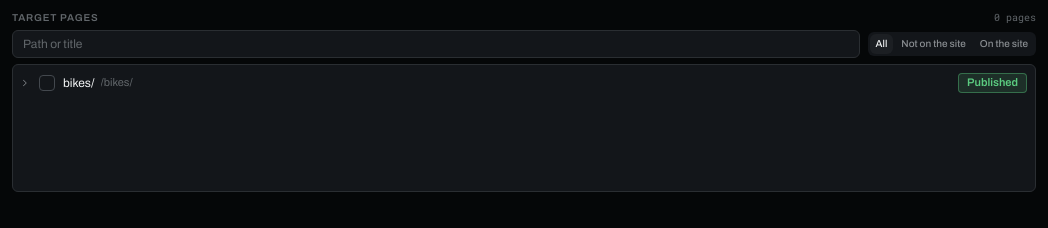
Scenario: the run start's targets › says in words why the run cannot write a picked page's parent first
Click the button named "Expand".
click(25, 83)  # box top-left (17, 75), bottom-right (33, 91)
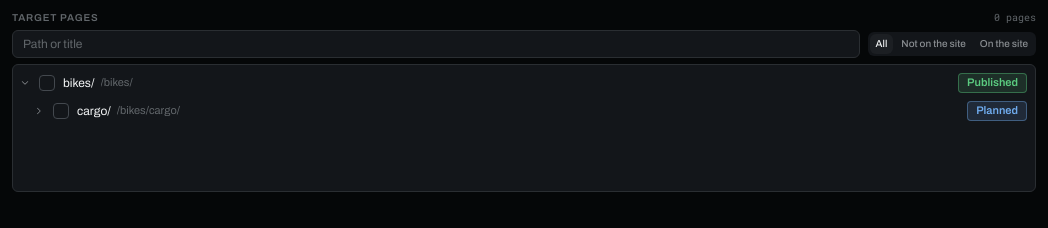
Click the button named "Expand".
click(39, 111)  # box top-left (31, 103), bottom-right (47, 119)
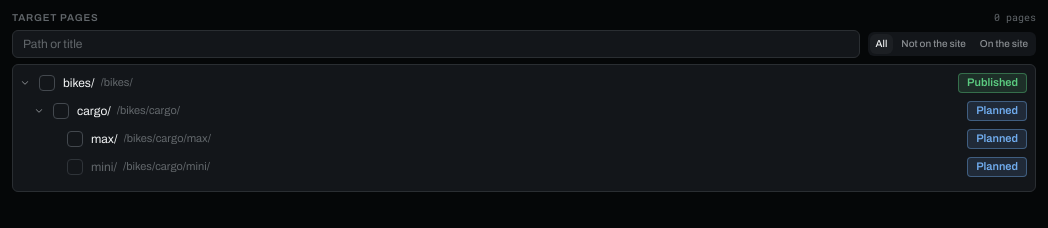
Click the checkbox labelled "max/".
click(92, 139)  # box top-left (67, 131), bottom-right (118, 147)
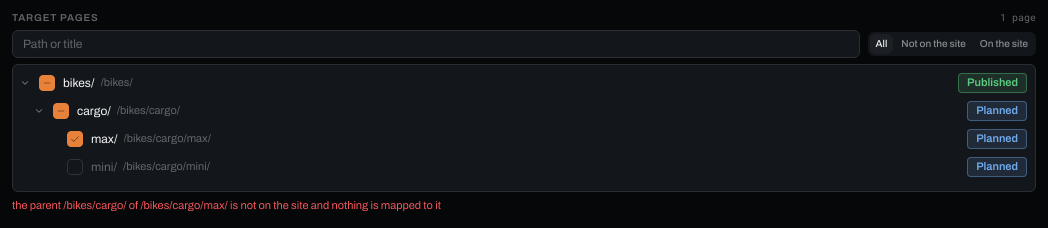
Expected: the message shows "the parent /bikes/cargo/ of /bikes/cargo/max/ is not on the site and nothing is mapped to it", top-left (12, 199), bottom-right (441, 211)
